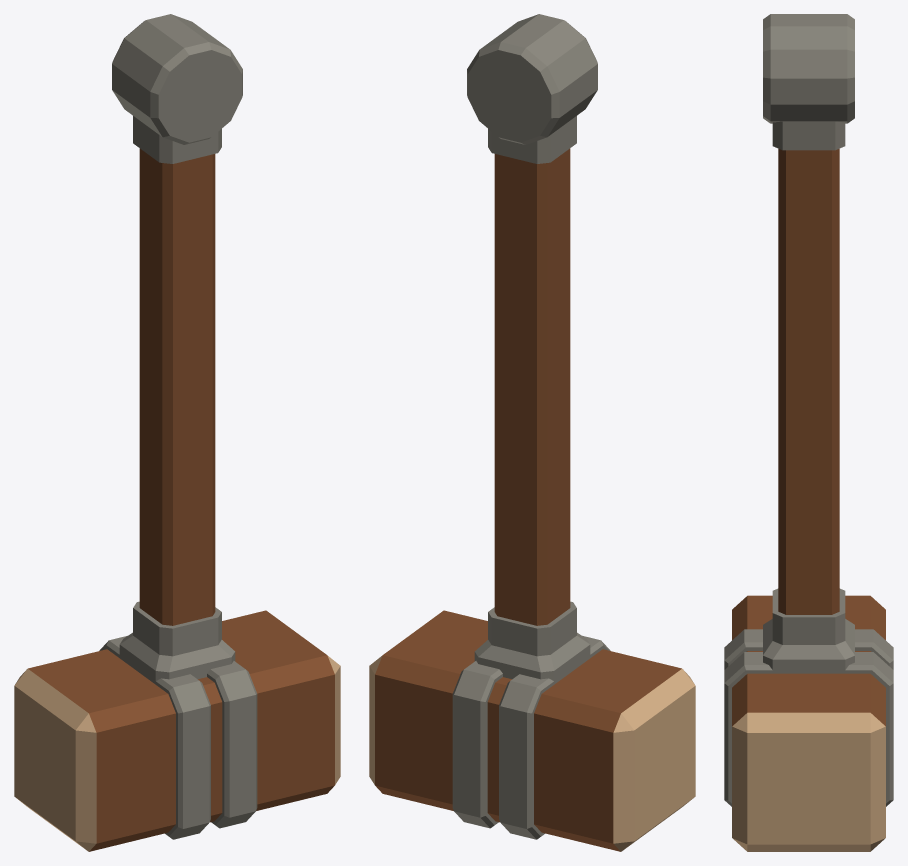
The model's file is Prop_Obstacle_Hammer.obj.
The picture shows the model from 3 angles, left to right: view 1: azimuth 30°, elevation 25°; view 2: azimuth 150°, elevation 25°; view 3: azimuth 270°, elevation 25°; orthographic projection.
Parts seen in each view (by area): view 1: Hammer_Arm, Hammer_Head_Middle, Hammer_Head_Brace, Hammer_Swing_Joint, Hammer_Head_End; view 2: Hammer_Arm, Hammer_Head_Middle, Hammer_Head_Brace, Hammer_Swing_Joint, Hammer_Head_End; view 3: Hammer_Arm, Hammer_Head_End, Hammer_Swing_Joint, Hammer_Head_Brace, Hammer_Head_Middle.
Part boxes in pixels (x1=…): Hammer_Arm: x1=139, y1=148, x2=215, y2=625; Hammer_Head_Middle: x1=28, y1=610, x2=334, y2=851; Hammer_Head_Brace: x1=99, y1=601, x2=257, y2=839; Hammer_Swing_Joint: x1=112, y1=14, x2=242, y2=163; Hammer_Head_End: x1=14, y1=655, x2=340, y2=851; Hammer_Arm: x1=494, y1=148, x2=570, y2=625; Hammer_Head_Middle: x1=375, y1=610, x2=681, y2=851; Hammer_Head_Brace: x1=452, y1=601, x2=610, y2=839; Hammer_Swing_Joint: x1=467, y1=14, x2=597, y2=163; Hammer_Head_End: x1=369, y1=655, x2=695, y2=851; Hammer_Arm: x1=778, y1=148, x2=839, y2=614; Hammer_Head_End: x1=732, y1=712, x2=885, y2=851; Hammer_Swing_Joint: x1=763, y1=14, x2=854, y2=150; Hammer_Head_Brace: x1=724, y1=588, x2=893, y2=806; Hammer_Head_Middle: x1=732, y1=595, x2=885, y2=726.
Size of the model in its own units: 1.5 by 4.2 by 0.825.
